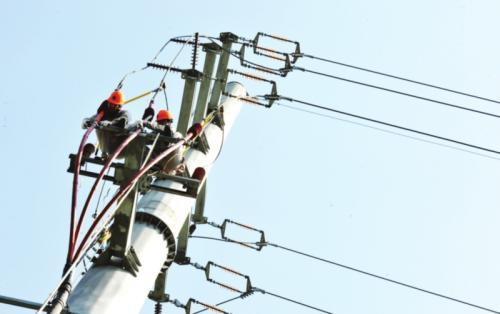helmet: (154, 106, 176, 133), (103, 91, 127, 114)
